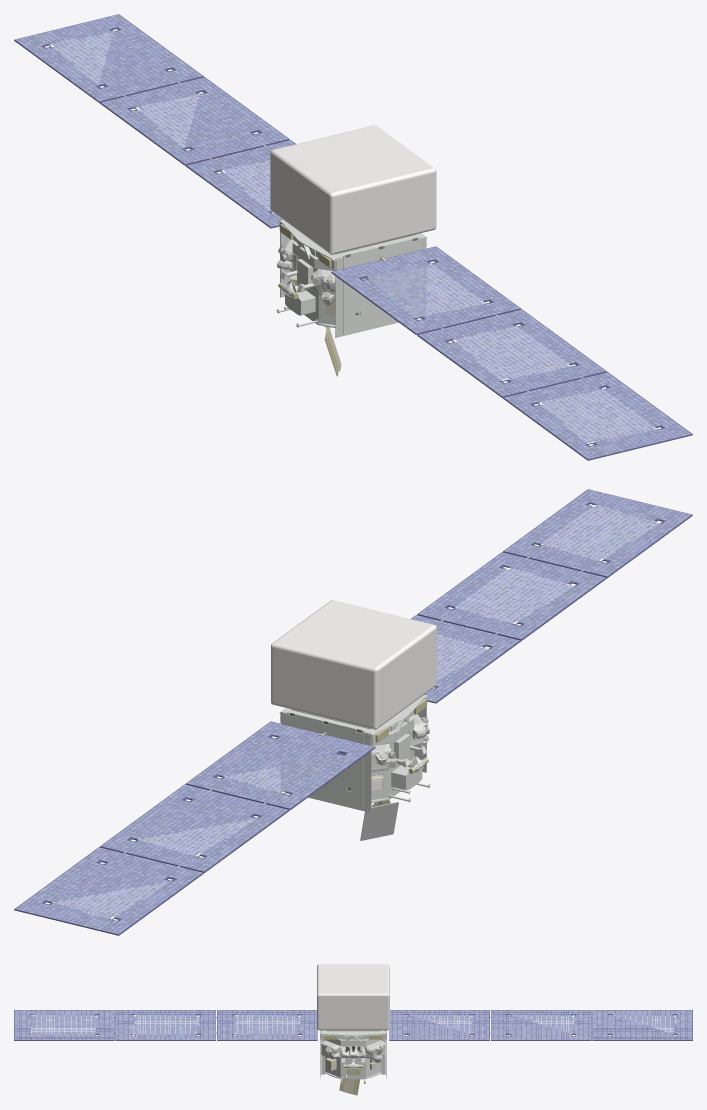
File: fermi.glb
3 renders of one model, top to bottom at view 1: azimuth 30°, elevation 25°; view 2: azimuth 150°, elevation 25°; view 3: azimuth 270°, elevation 25°, orthographic. The views are drawn at different scales.
Visible parts, largest first — view 1: Layer_0; view 2: Layer_0; view 3: Layer_0.
Boxes of the visible parts, box(x1,y1,x2,y2) form: Layer_0: box(14, 14, 692, 460); Layer_0: box(14, 489, 692, 935); Layer_0: box(14, 964, 692, 1095).
Size of the model in its own units: 8.55 by 12.1 by 62.31.
1 material, 1 textured.
